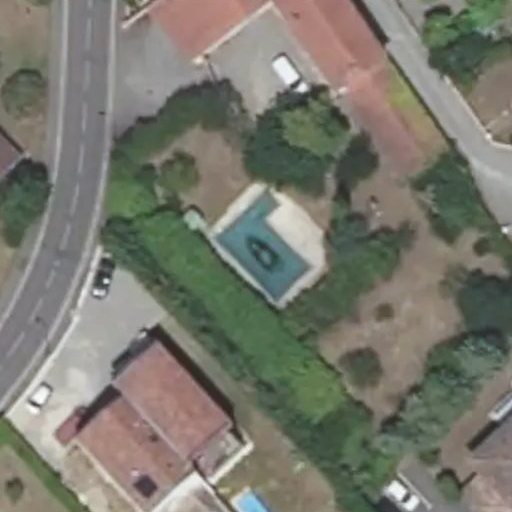pool: (212, 231, 306, 252)
